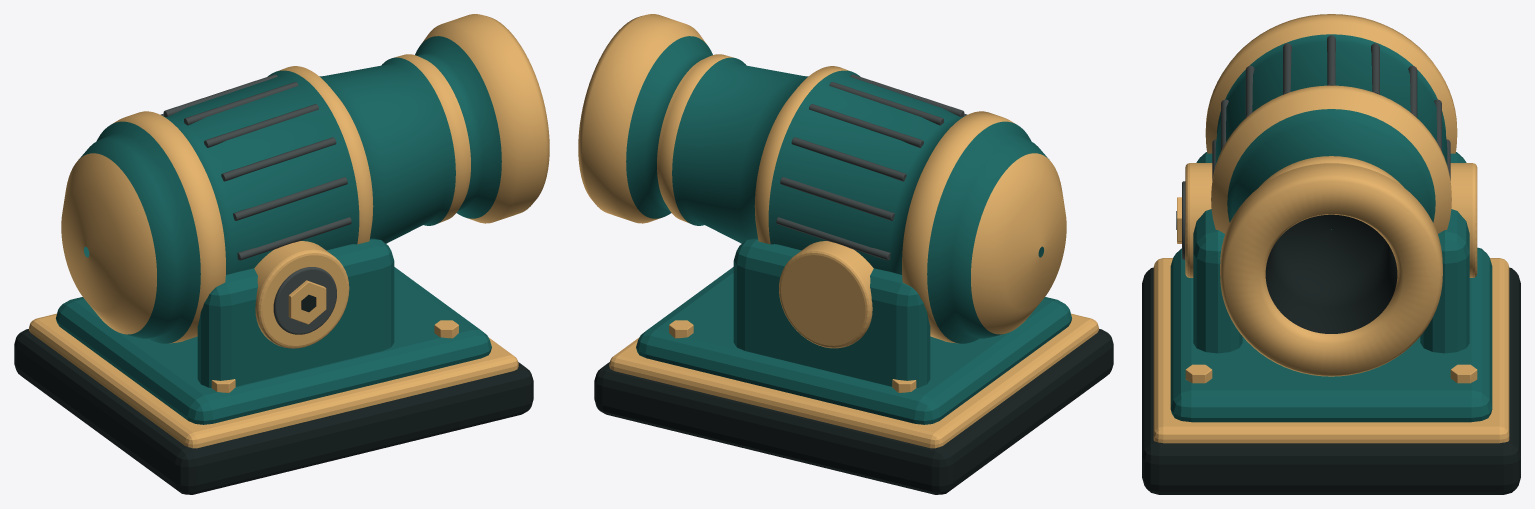
The model's file is cannon.glb.
The picture shows the model from 3 angles, left to right: view 1: azimuth 30°, elevation 25°; view 2: azimuth 150°, elevation 25°; view 3: azimuth 270°, elevation 25°; orthographic projection. The views are drawn at different scales.
Parts seen in each view (by area): view 1: cannon; view 2: cannon; view 3: cannon.
Part boxes in pixels (<box>): cannon: <box>14,14,549,494</box>; cannon: <box>578,14,1113,494</box>; cannon: <box>1142,14,1520,494</box>.
Bounding box in the file's own units: 1.38 × 1.01 × 1.
